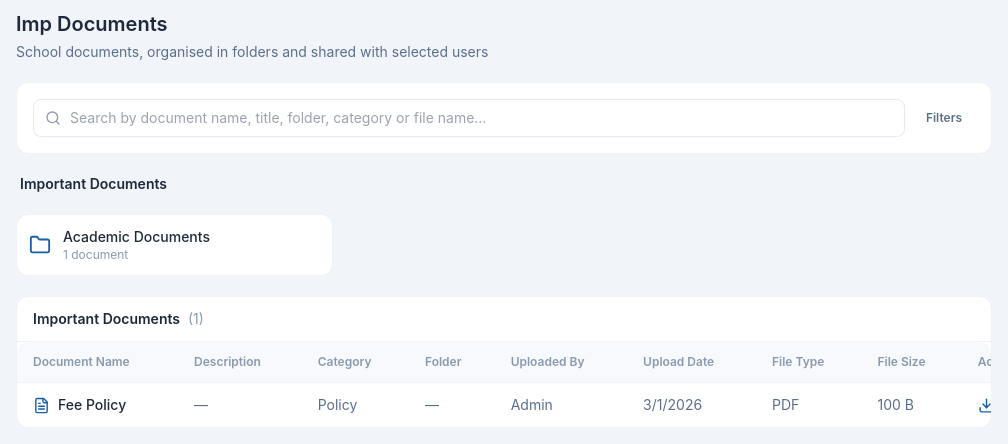
Important Documents folders and search › searches across all folders, shows a no-results message and clears filters
The image size is (1008, 444).
Expected: the text "Fee Policy" is shown, x1=33 y1=396 x2=126 y2=414
Replace the text in the search field named "Search documents" with "zzz": point(469, 118) x1=33 y1=99 x2=905 y2=137
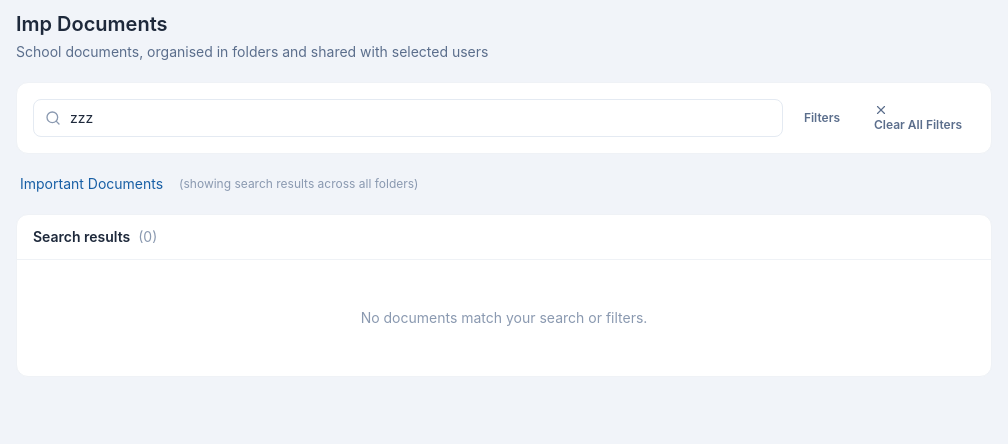
Now the text with test id "documents-empty" reads "No documents match your search or filters.", box x1=361 y1=309 x2=647 y2=326
Click the button "Clear All Filters": point(918, 118) x1=861 y1=102 x2=975 y2=134
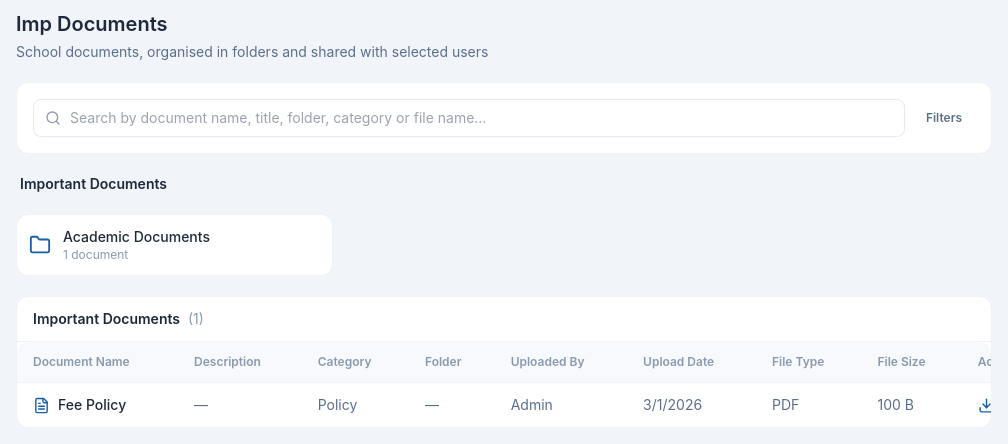
Now the text "Fee Policy" is shown, box x1=33 y1=396 x2=126 y2=414
